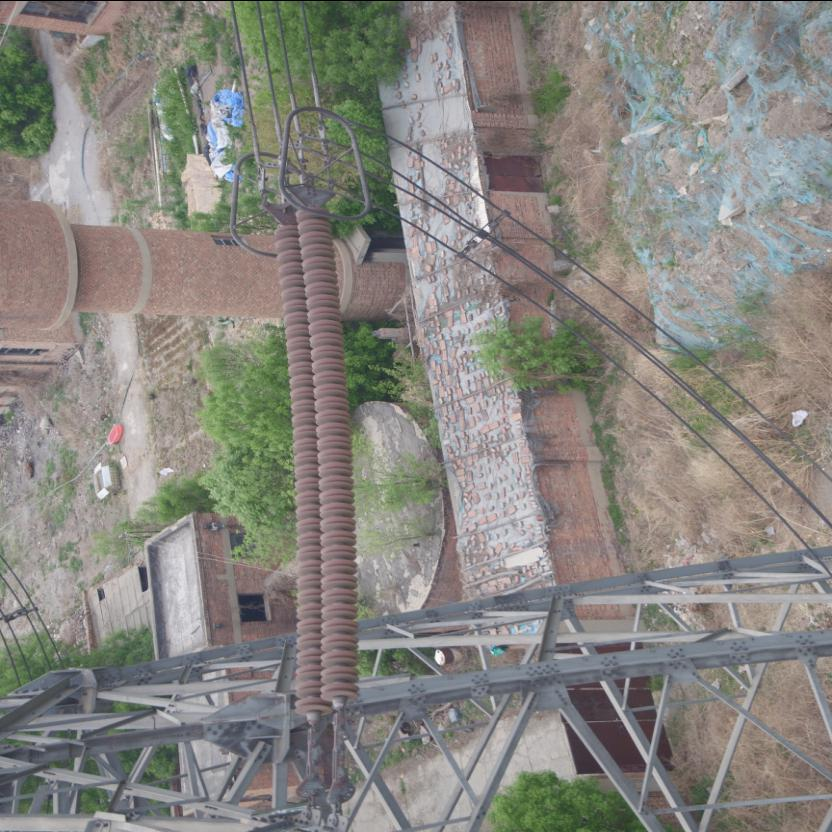insulator: (270, 195, 361, 748)
